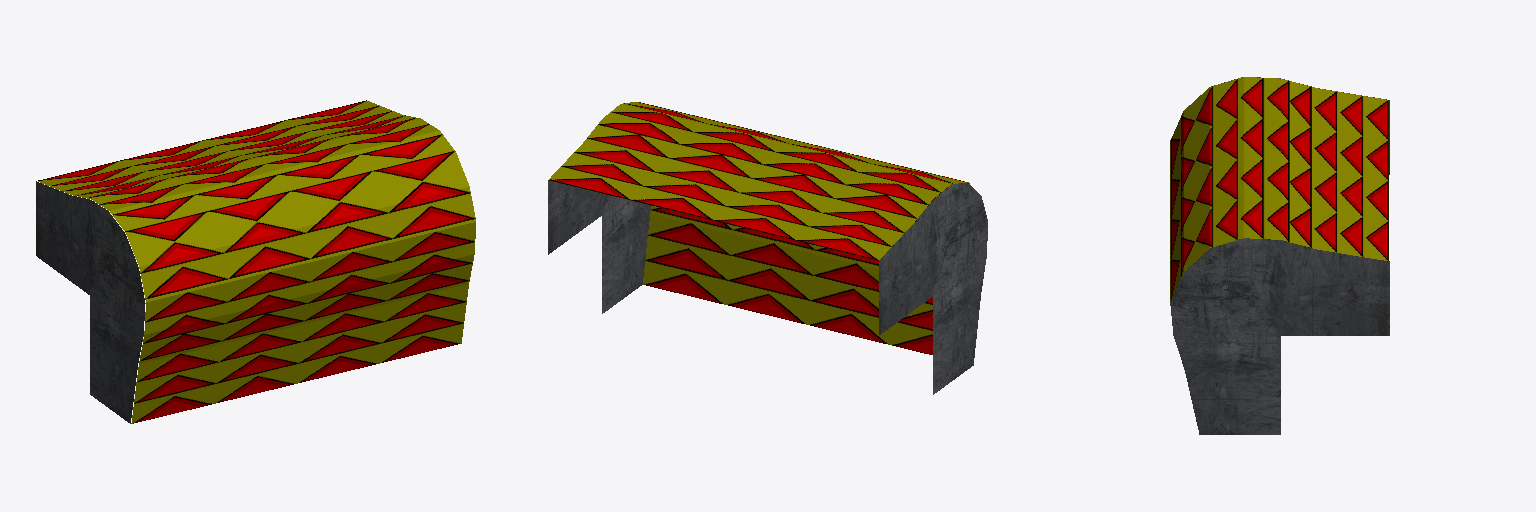
3 views of the same model, side by side, from view 1: azimuth 30°, elevation 25°; view 2: azimuth 150°, elevation 25°; view 3: azimuth 270°, elevation 25° (orthographic).
Visible parts, largest first — view 1: pCylinder35; view 2: pCylinder35; view 3: pCylinder35.
Boxes of the visible parts, x1,y1,x2,y2 form: pCylinder35: [36, 100, 475, 423]; pCylinder35: [548, 102, 987, 394]; pCylinder35: [1170, 77, 1389, 434].
Size of the model in its own units: 25.32 by 14.41 by 14.55.
Materials: 1 (1 with a texture image).